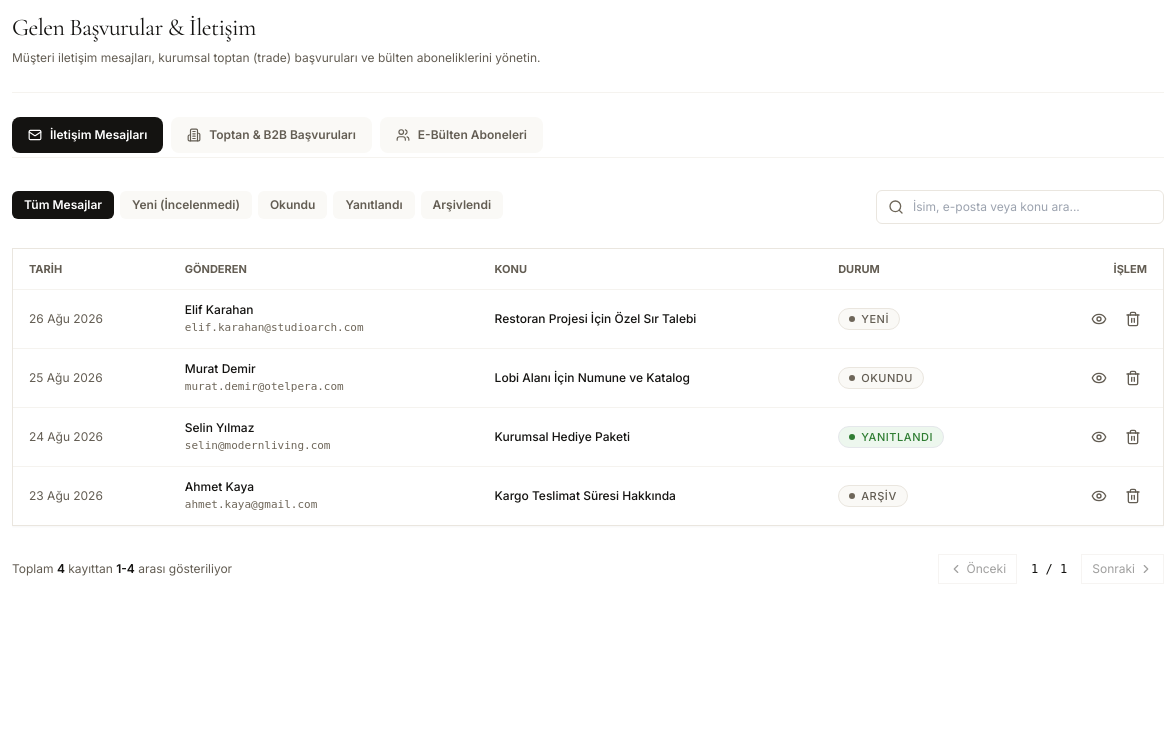
AdminSubmissionsPage Component › renders submissions page and allows switching between tabs
Expected: the heading "Gelen Başvurular & İletişim" is shown, [12,12,256,44]
Expected: the text "İletişim Mesajları" is shown, [50,126,147,142]
Note: Switch to Trade tab
Click the button "Toptan & B2B Başvuruları".
click(272, 134)  # box [171,116,372,152]
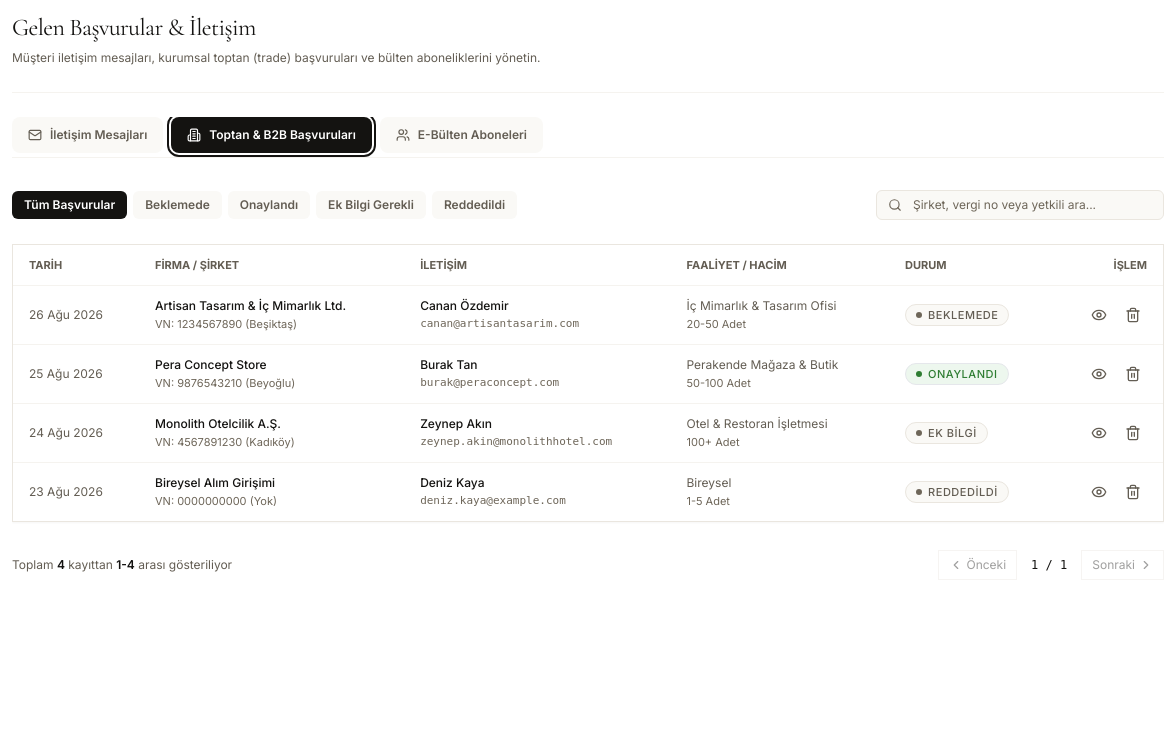
Expected: the text "Artisan Tasarım & İç Mimarlık Ltd." is shown, [155,298,346,312]
Note: Switch to Newsletter tab
Click the button "E-Bülten Aboneleri".
click(461, 134)  # box [380,116,543,152]
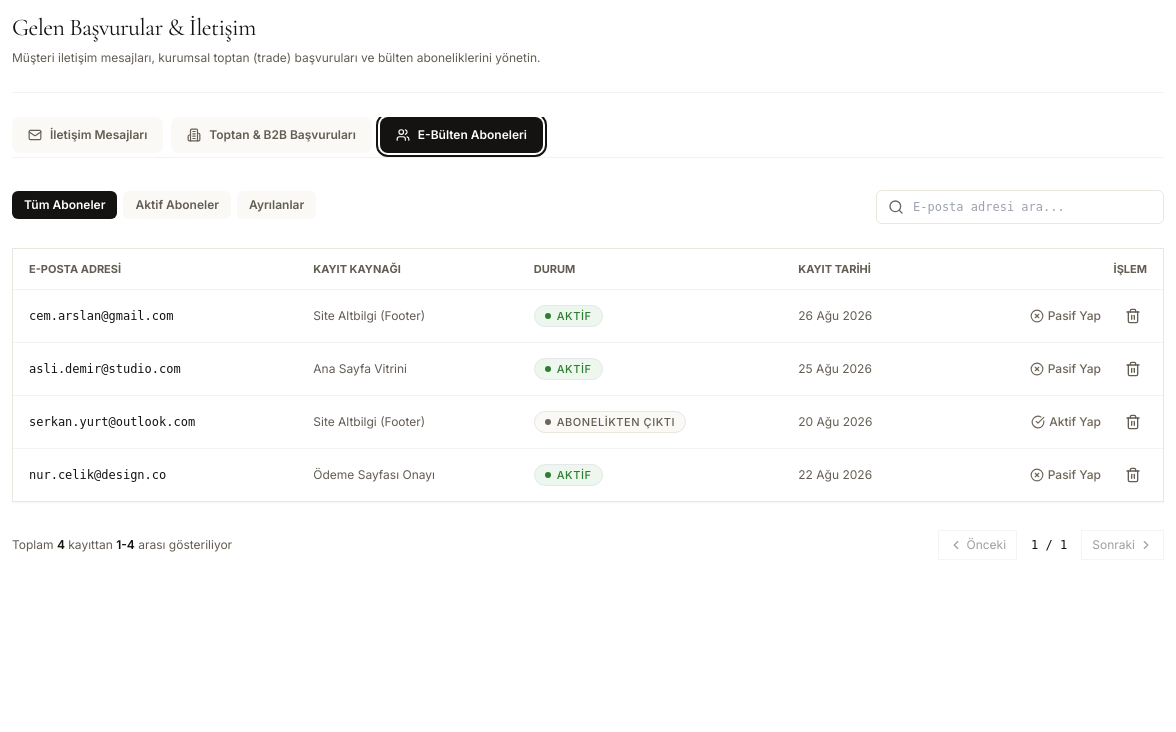
Expected: the text "cem.arslan@gmail.com" is shown, [13,289,297,342]
